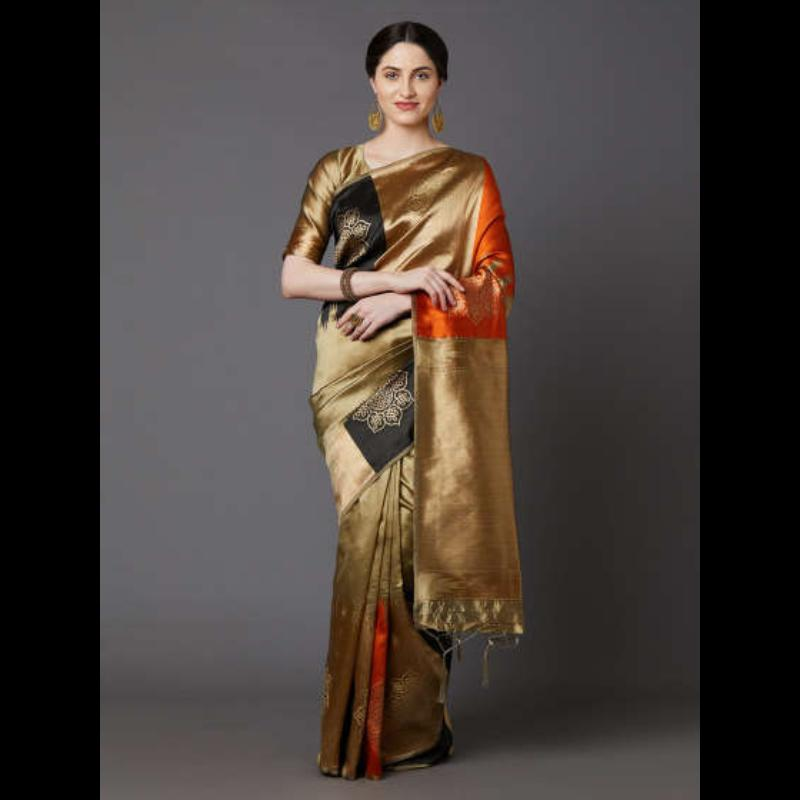Saree: (290, 153, 542, 793)
